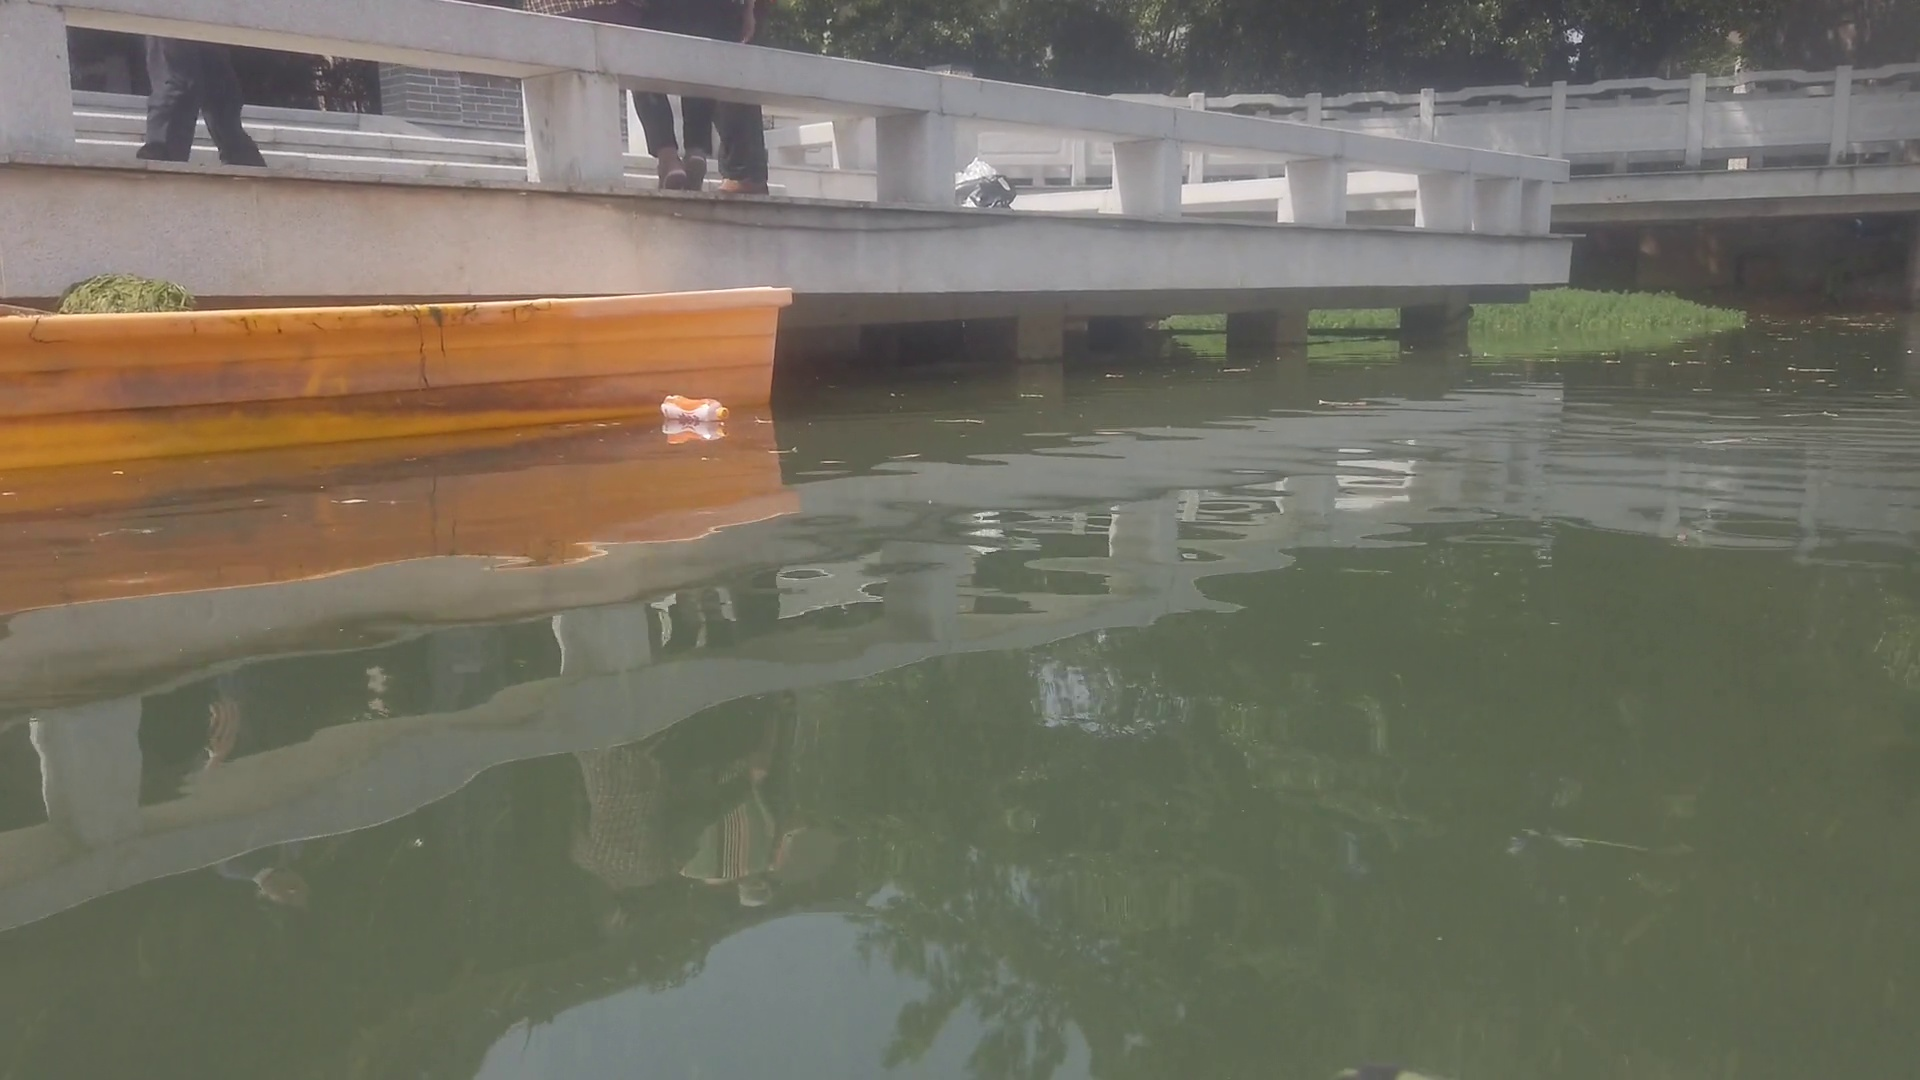bottle: (659, 392, 727, 429)
